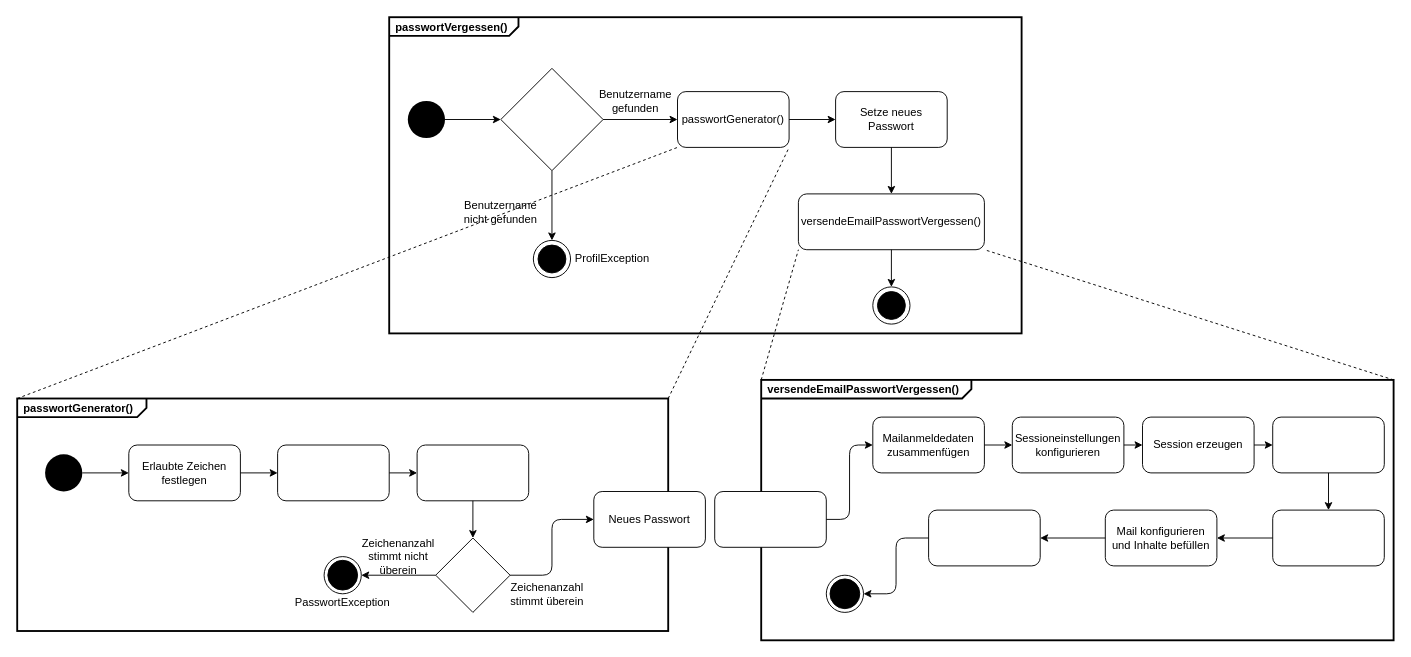
Some shapes in this 1411 by 657 pixel diagram are drawn without their labels. The centre of each missing label's shape, as x and y in pixels:
Anzahl der Zeichen des neuen Passworts festlegen: [333,472]
Benutzername und Kundenemail abrufen: [1328,537]
EMail mit neuem Passwort versenden: [984,537]
Mail erzeugen: [1328,444]
Neues Passwort, Profil: [770,519]
Passwort mit RNG und StringBuilder zusammenfügen: [472,472]
